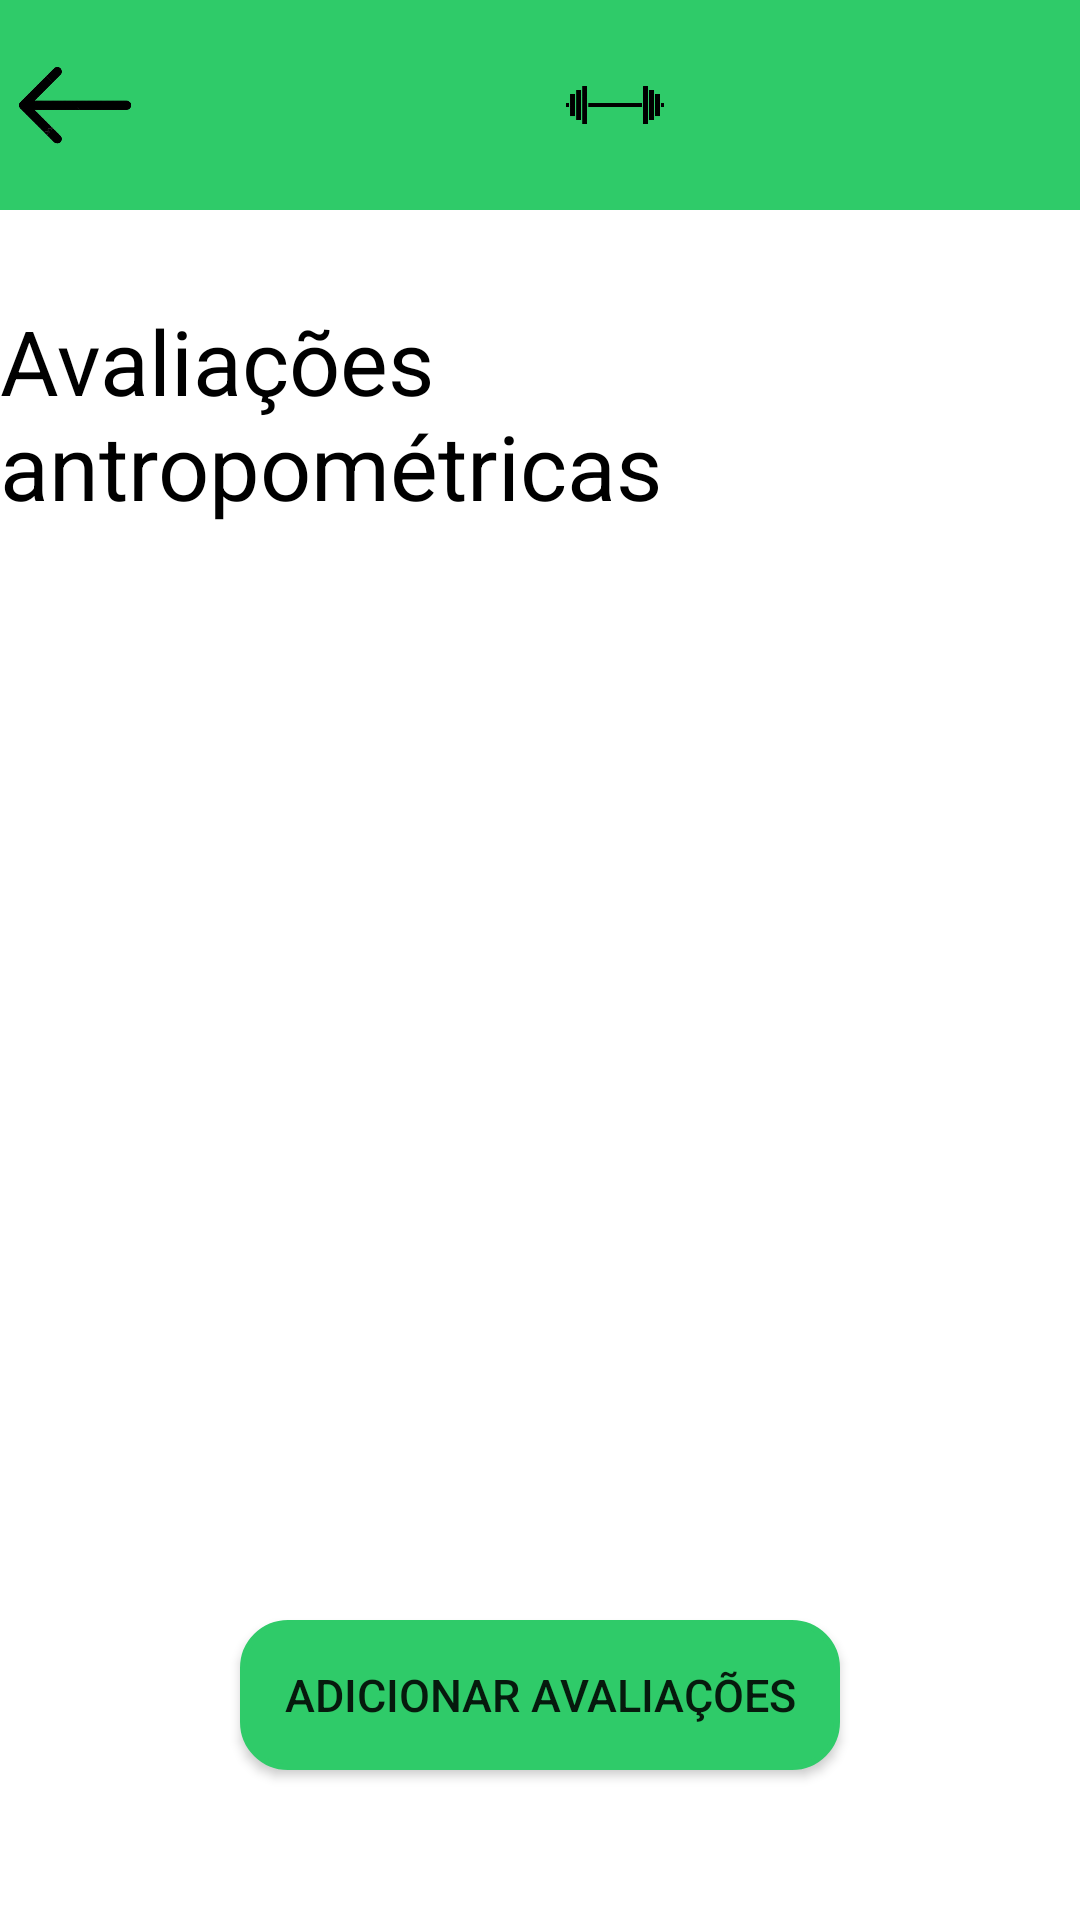

Named icons in this screenshot (1080*1920) and their centers, point (x, y):
voltar: point (75, 105)
